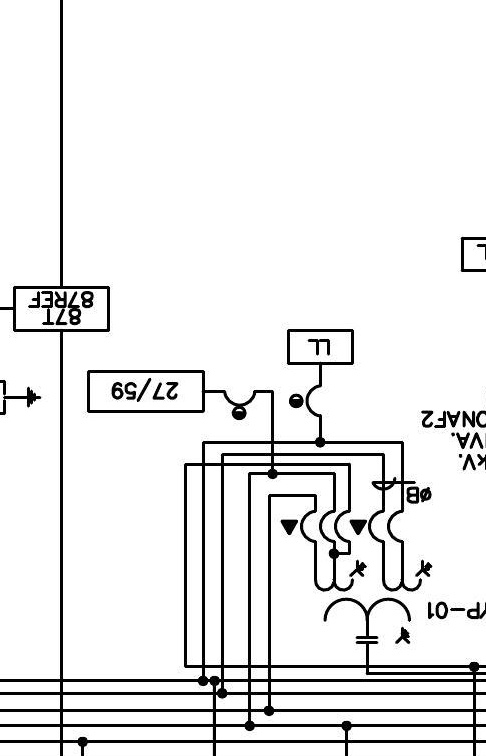115_cvt_3p: (313, 559, 433, 644)
LL: (287, 329, 354, 365)
